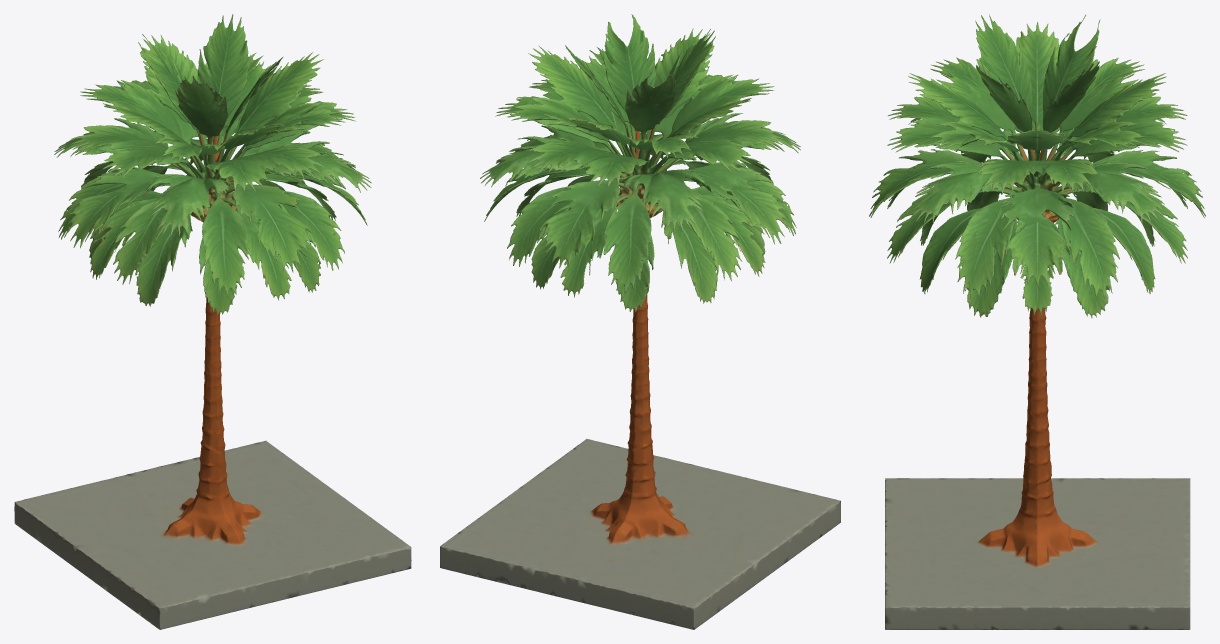
File: cerrado_buriti.glb
The picture shows the model from 3 angles, left to right: view 1: azimuth 30°, elevation 25°; view 2: azimuth 150°, elevation 25°; view 3: azimuth 270°, elevation 25°; orthographic projection. The views are drawn at different scales.
Bounding box in the file's own units: 1.07 × 1.85 × 1.07.
Materials: 1 (1 with a texture image).
